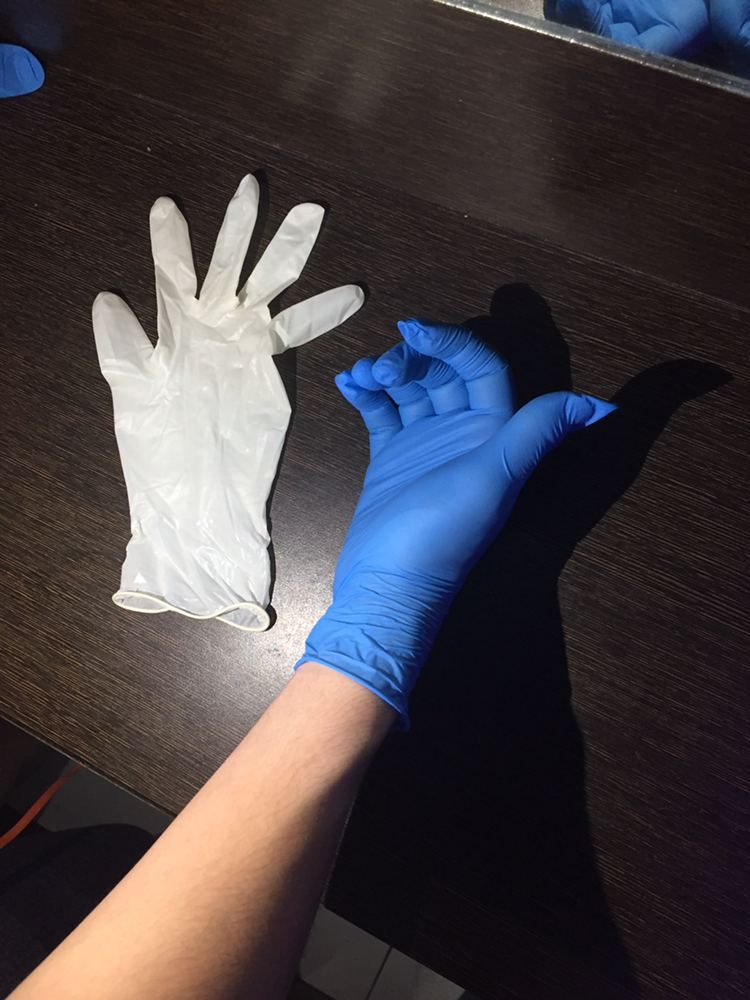glove: (44, 159, 344, 609), (318, 301, 606, 630)
